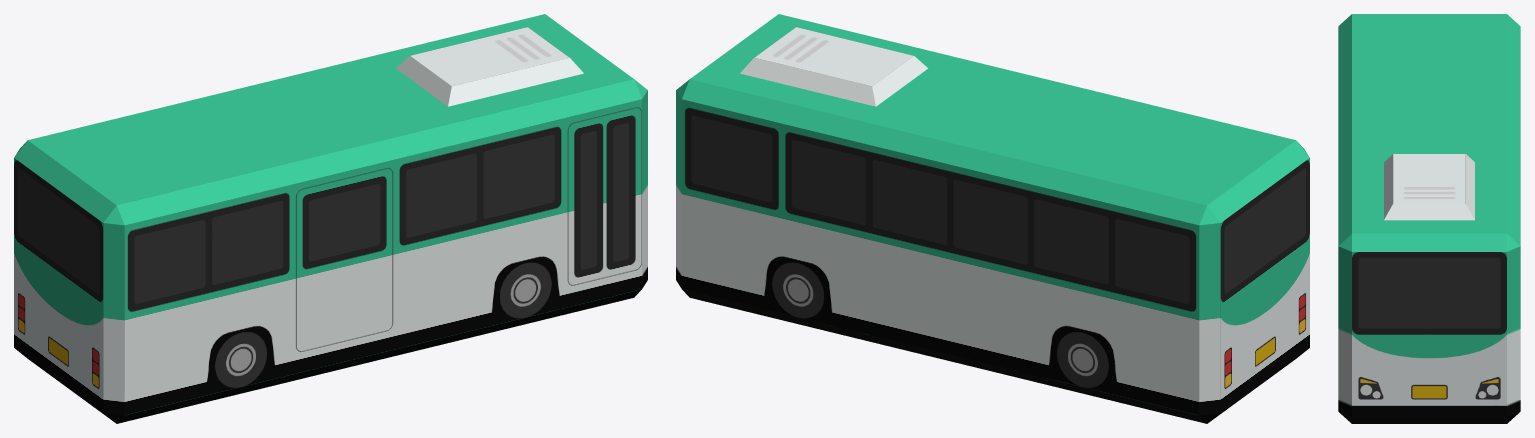
The model's file is gbus_green.gltf.
3 renders of one model, left to right at view 1: azimuth 30°, elevation 25°; view 2: azimuth 150°, elevation 25°; view 3: azimuth 270°, elevation 25°, orthographic. The views are drawn at different scales.
Parts seen in each view (by area): view 1: Cube; view 2: Cube; view 3: Cube.
Boxes of the visible parts, x1,y1,x2,y2 form: Cube: (14, 14, 647, 423); Cube: (676, 14, 1309, 423); Cube: (1338, 14, 1520, 423).
Size of the model in its own units: 6 by 2.45 by 2.
1 material, 1 textured.
